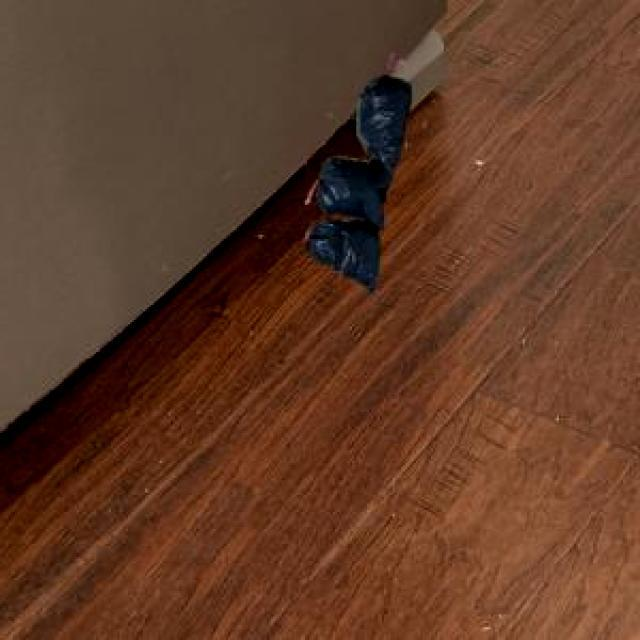Trashbag: (299, 218, 386, 296), (356, 67, 416, 172), (310, 157, 394, 224)
